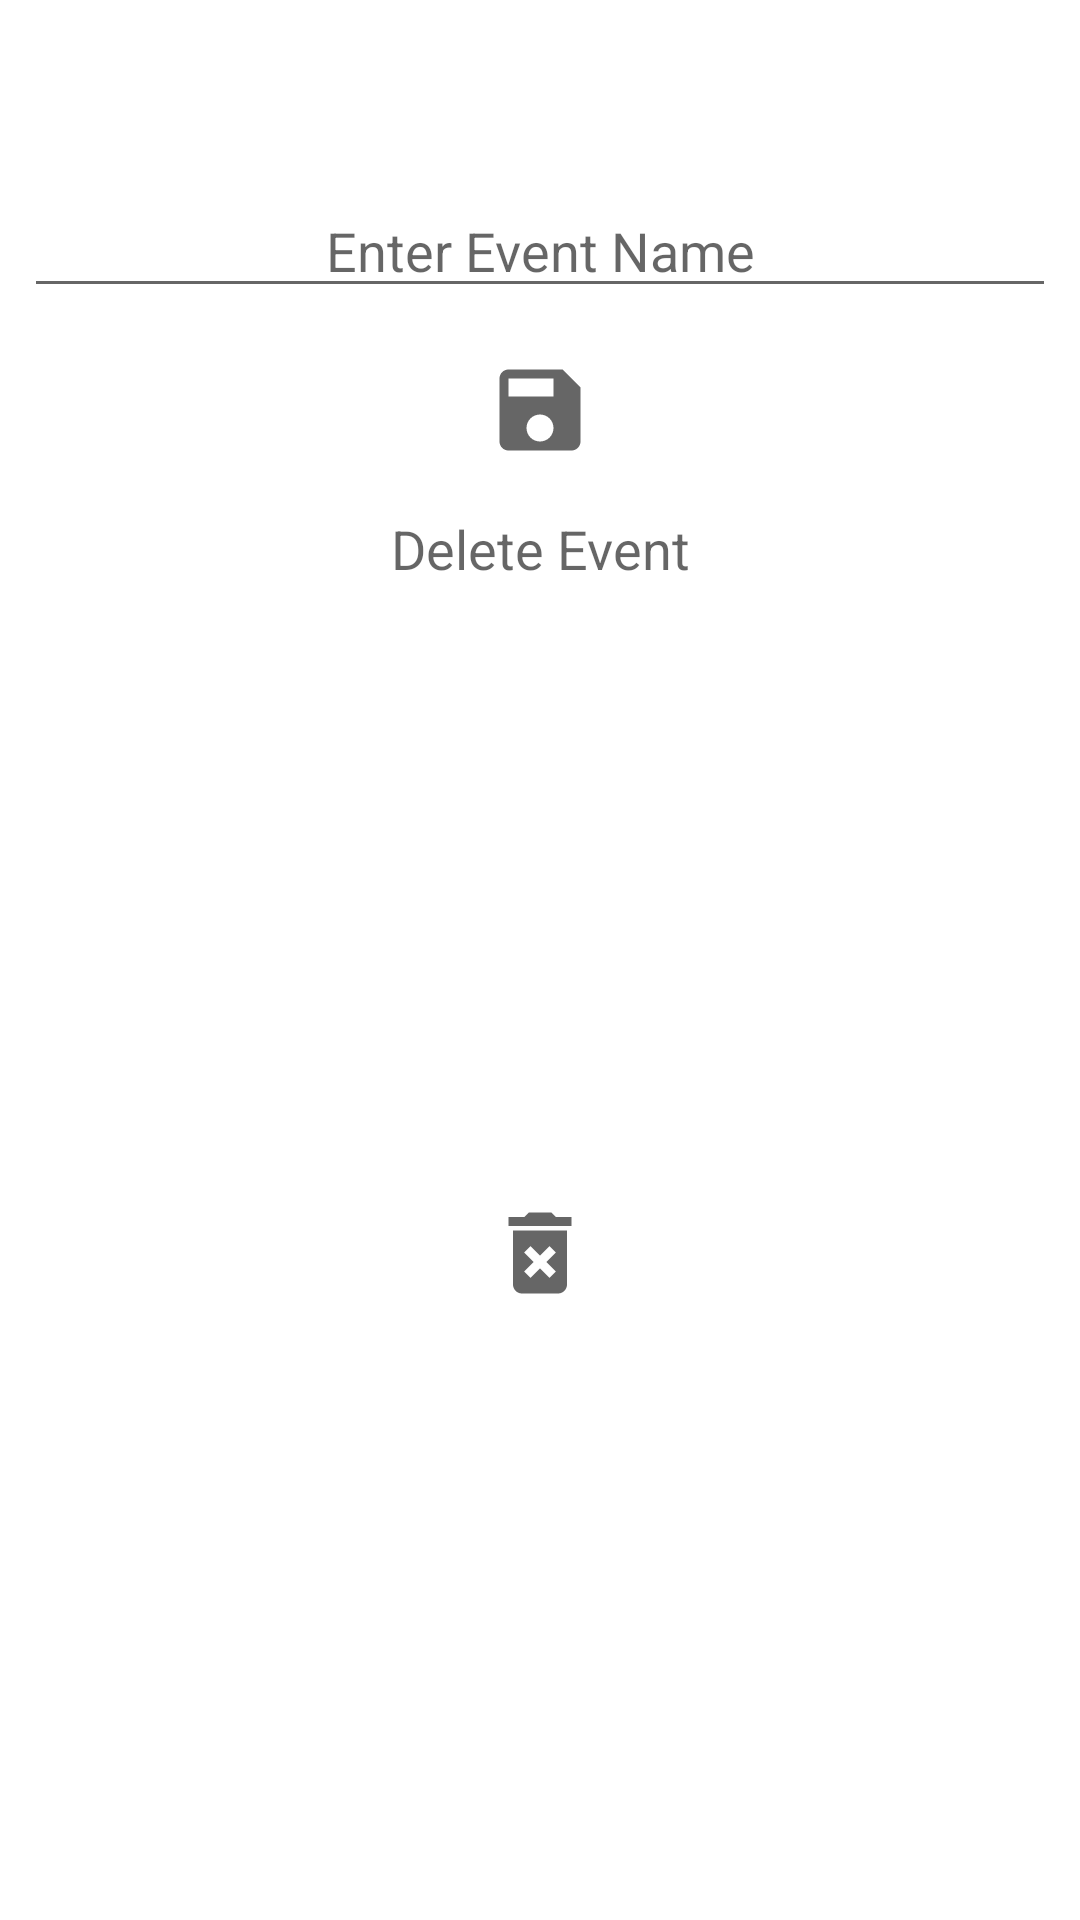

Where icons sit on this 1080 x 1920 app screen, as (x1, y1, x2, y2):
Delete Event: (508, 1212, 572, 1294)
Save Event: (499, 369, 581, 451)
